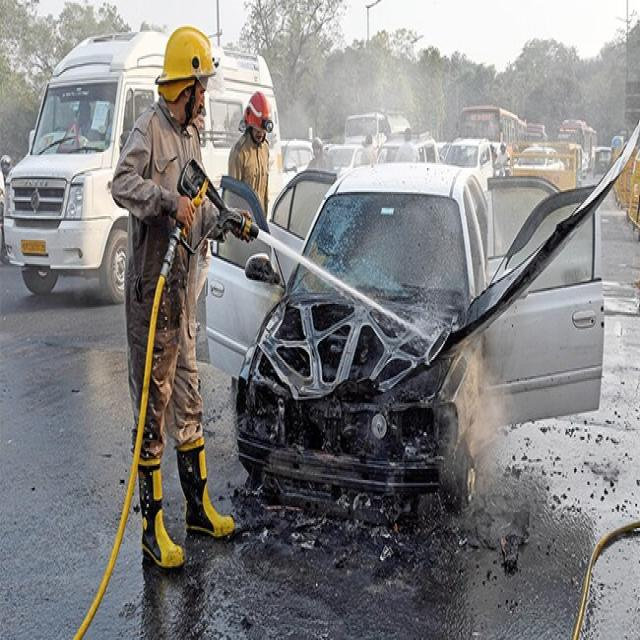accident: (206, 127, 640, 520)
bus: (6, 35, 169, 301)
